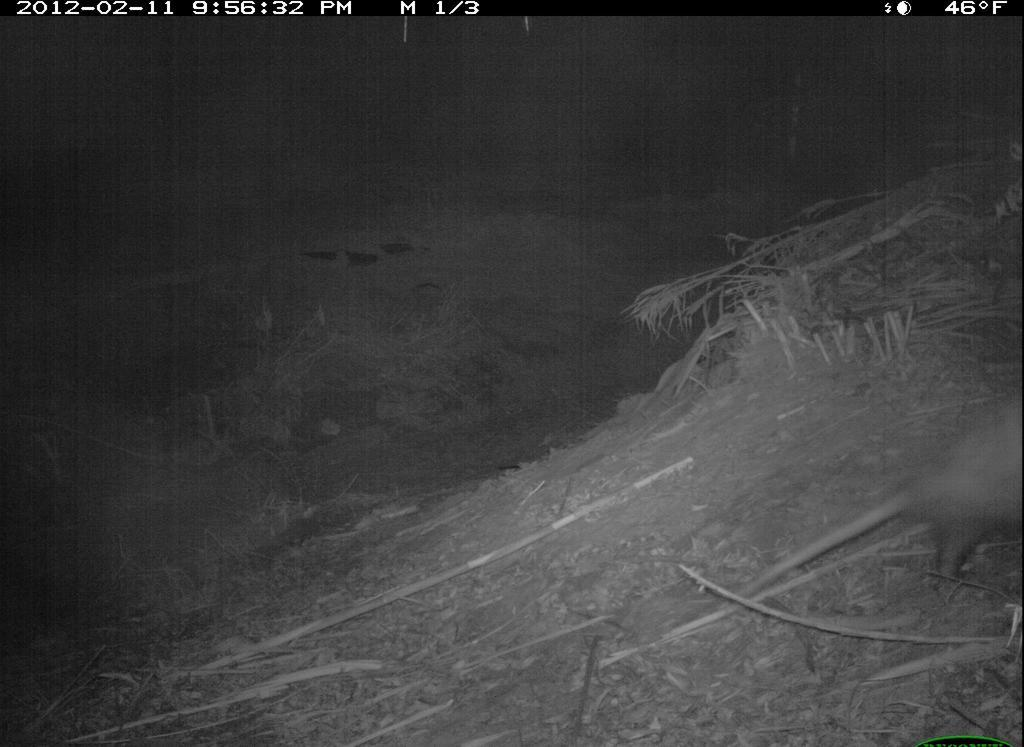opossum: (708, 382, 1021, 615)
